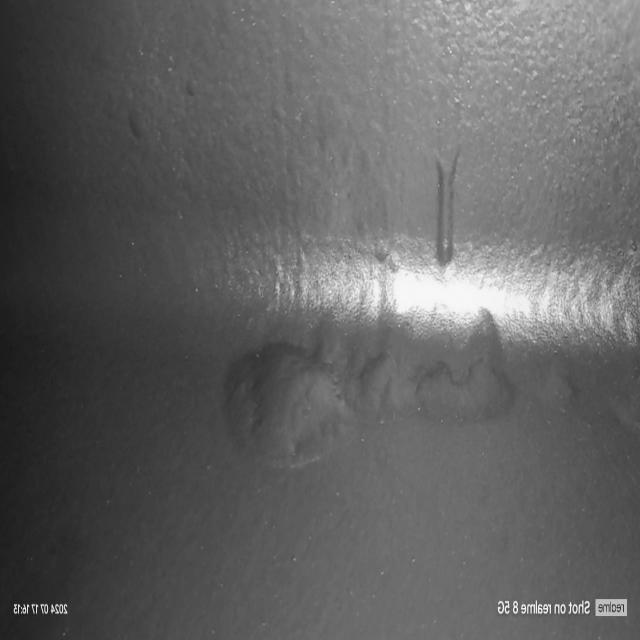paint drips: (425, 127, 470, 275)
